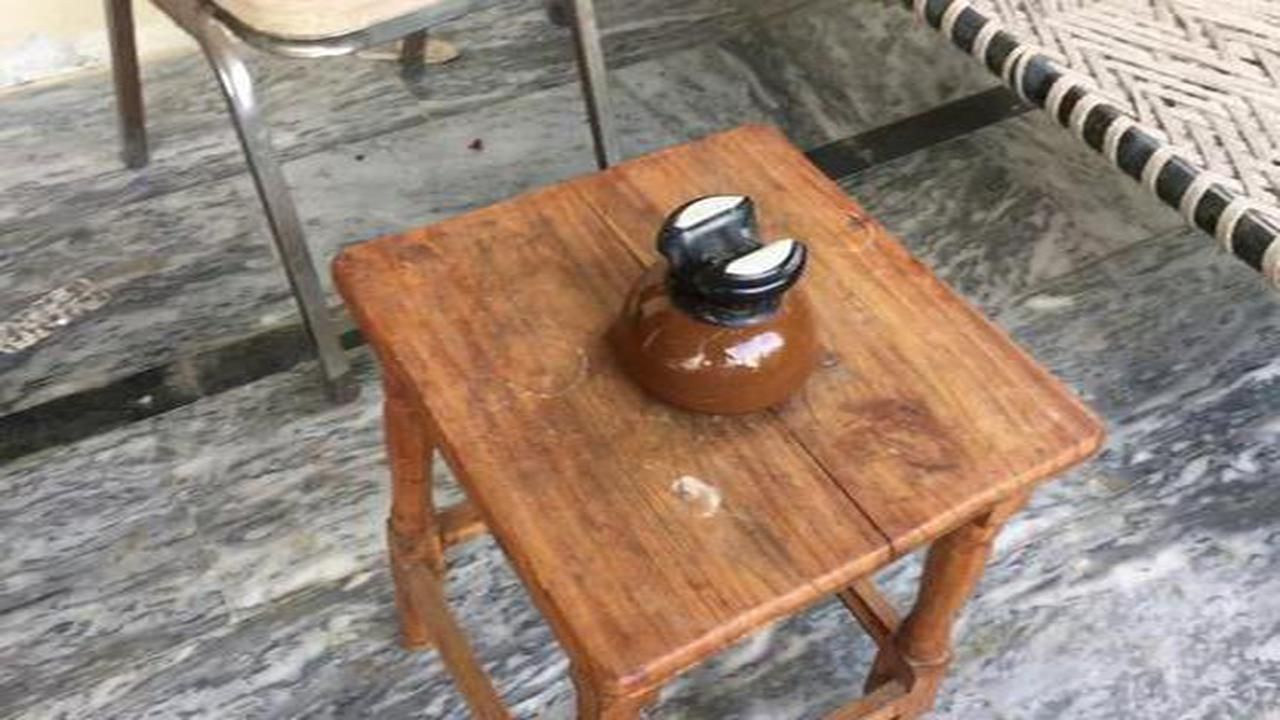insulator_pin: (588, 179, 844, 437)
